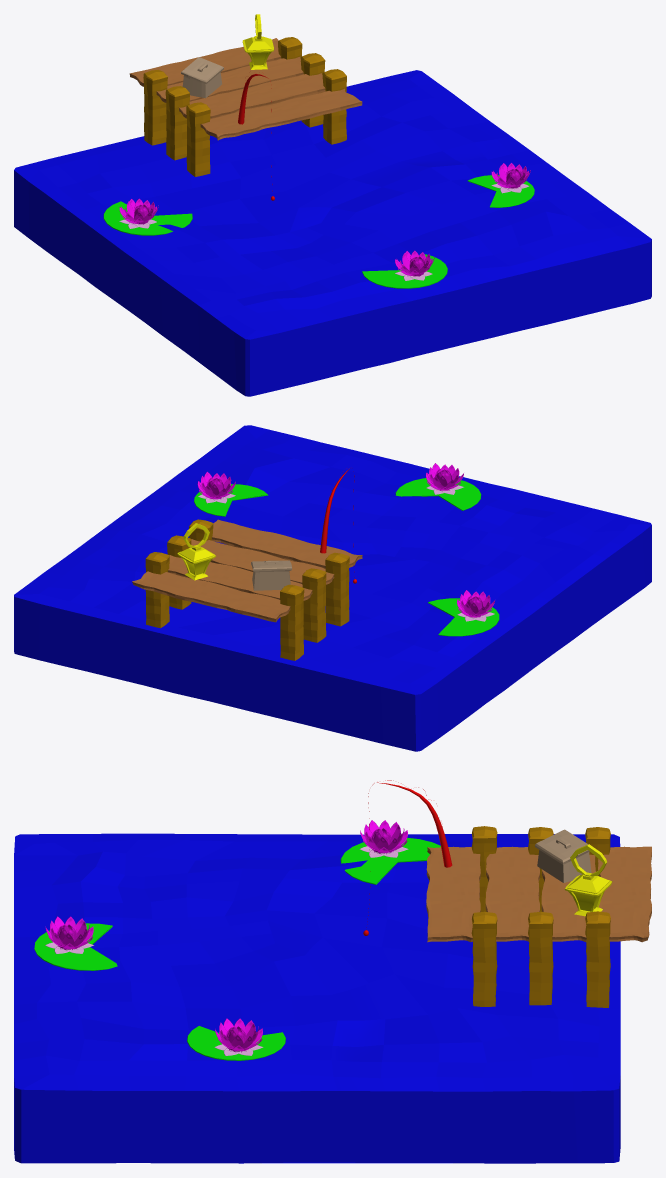
The model's file is Serene_Lake.fbx.
3 views of the same model, one above another, from view 1: azimuth 30°, elevation 25°; view 2: azimuth 150°, elevation 25°; view 3: azimuth 270°, elevation 25° (orthographic). The views are drawn at different scales.
Parts seen in each view (by area): view 1: Lake_Water, Dock_Board_1, Dock_Board_2, Dock_Board_3, Dock_Board_4, Dock_Leg_1, Dock_Leg_5, Dock_Leg_4, Lilypad_3, Bait_Box, Dock_Leg_2, Lilypad_2 (+3 smaller); view 2: Lake_Water, Dock_Board_4, Dock_Board_1, Dock_Board_3, Dock_Board_2, Dock_Leg_5, Dock_Leg_1, Dock_Leg_4, Dock_Leg_6, Lilypad_3, Lilypad_2, Bait_Box (+3 smaller); view 3: Lake_Water, Dock_Board_1, Dock_Board_4, Dock_Board_2, Dock_Leg_6, Dock_Leg_2, Dock_Leg_3, Dock_Board_3, Lilypad_3, Bait_Box, Lilypad_2, Lantern (+5 smaller).
Boxes of the visible parts, <box> form: Lake_Water: <box>14,70,651,396</box>; Dock_Board_1: <box>200,88,362,140</box>; Dock_Board_2: <box>179,73,325,118</box>; Dock_Board_3: <box>156,57,303,102</box>; Dock_Board_4: <box>129,38,281,86</box>; Dock_Leg_1: <box>186,102,210,176</box>; Dock_Leg_5: <box>143,69,167,145</box>; Dock_Leg_4: <box>165,86,189,160</box>; Lilypad_3: <box>103,201,192,235</box>; Bait_Box: <box>181,57,223,98</box>; Dock_Leg_2: <box>322,69,346,144</box>; Lilypad_2: <box>362,254,447,288</box>; Lake_Water: <box>14,425,651,751</box>; Dock_Board_4: <box>132,571,290,622</box>; Dock_Board_1: <box>212,519,362,568</box>; Dock_Board_3: <box>168,555,312,600</box>; Dock_Board_2: <box>191,539,334,584</box>; Dock_Leg_5: <box>280,584,304,660</box>; Dock_Leg_1: <box>325,552,349,626</box>; Dock_Leg_4: <box>302,568,326,642</box>; Dock_Leg_6: <box>145,552,169,628</box>; Lilypad_3: <box>428,598,499,636</box>; Lilypad_2: <box>395,478,481,510</box>; Bait_Box: <box>251,560,292,590</box>; Lake_Water: <box>14,833,620,1163</box>; Dock_Board_1: <box>426,846,480,942</box>; Dock_Board_4: <box>598,846,651,942</box>; Dock_Board_2: <box>485,846,539,941</box>; Dock_Leg_6: <box>585,911,610,1007</box>; Dock_Leg_2: <box>471,911,497,1006</box>; Dock_Leg_3: <box>528,911,553,1005</box>; Dock_Board_3: <box>541,854,595,942</box>; Lilypad_3: <box>340,838,440,884</box>; Bait_Box: <box>535,829,591,882</box>; Lilypad_2: <box>34,923,117,970</box>; Lantern: <box>564,844,612,916</box>.
Size of the model in its own units: 400 by 167 by 421.
